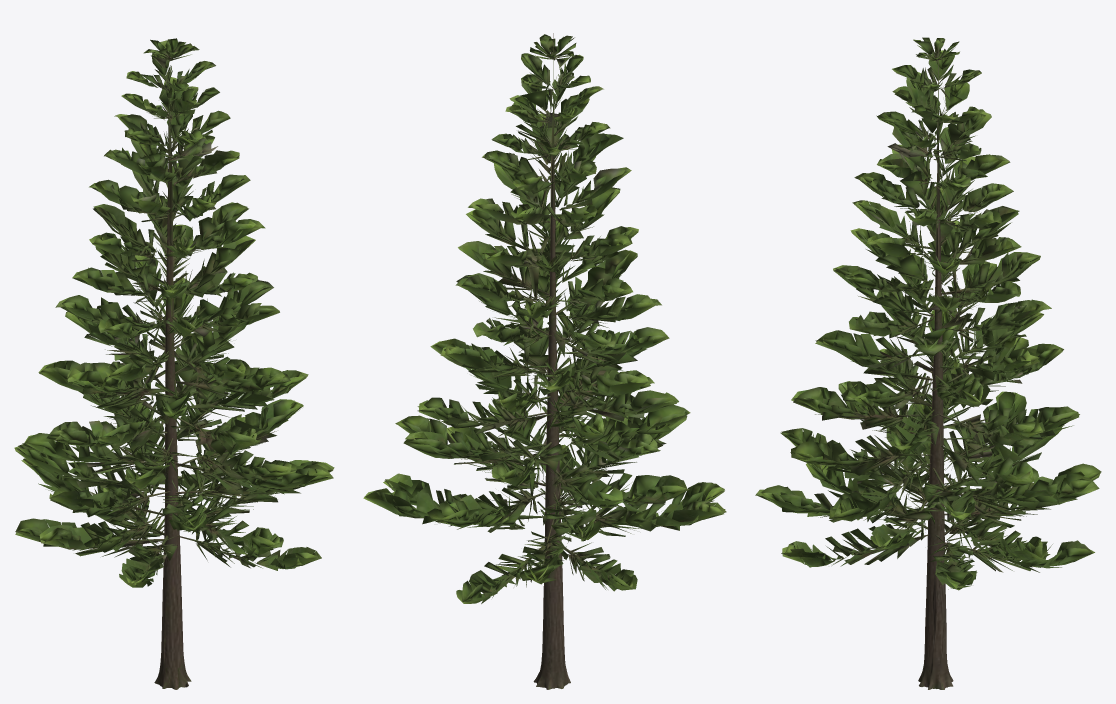
Rendered from araucaria_b.glb.
3 views of the same model, side by side, from view 1: azimuth 30°, elevation 25°; view 2: azimuth 150°, elevation 25°; view 3: azimuth 270°, elevation 25° (orthographic).
Bounding box in the file's own units: 0.4629 × 0.9521 × 0.4482.
Materials: 1 (1 with a texture image).
